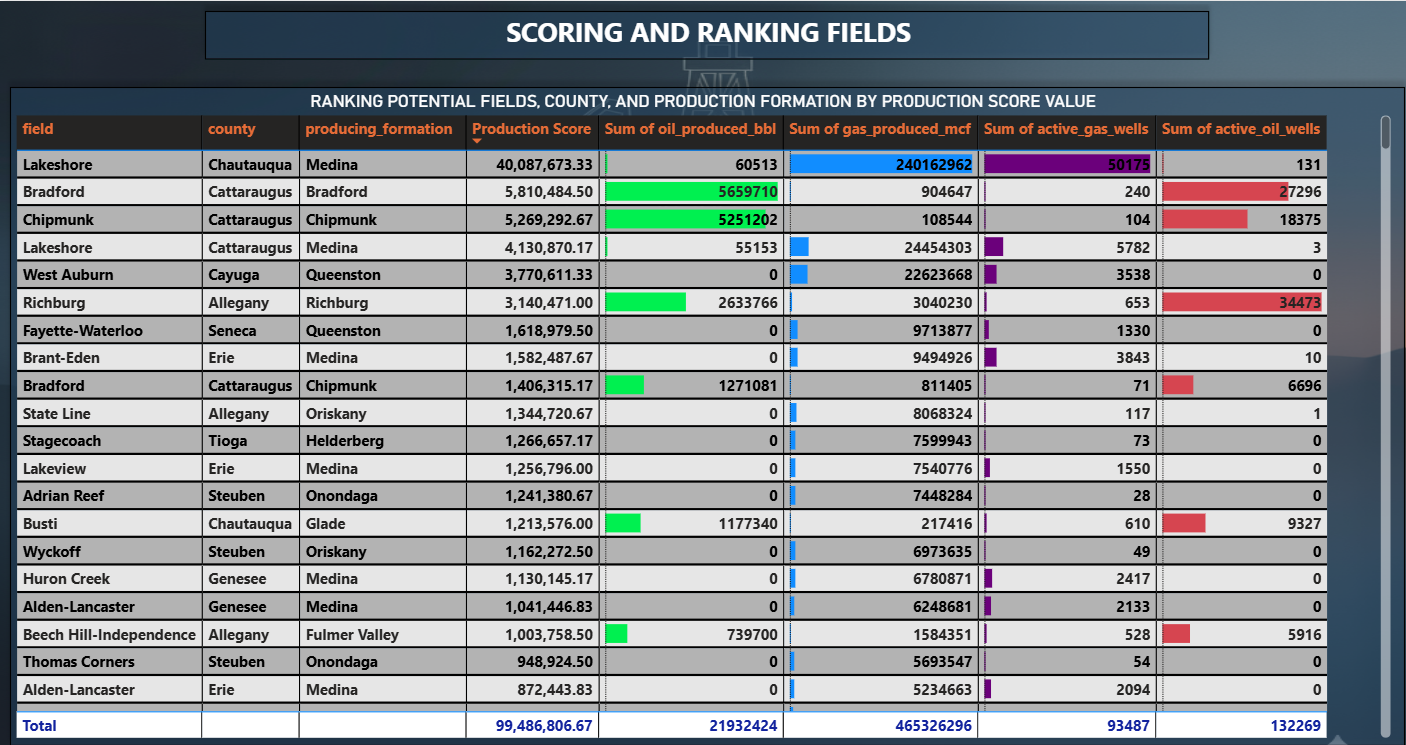

The dashboard page shown, as its layout file describes it:
{"tool":"powerbi","page":{"name":"SCORING AND RANKING FIELDS","canvas":[1280,720],"ordinal":2},"visuals":[{"type":"shape","box":[176.8,0,926.4,62],"z":0},{"type":"textbox","box":[341.5,6.5,597.9,55.5],"z":1000},{"type":"shape","box":[0,69,1280,614.1],"z":2000},{"type":"tableEx","title":"RANKING POTENTIAL FIELDS, COUNTY, AND PRODUCTION FORMATION BY PRODUCTION SCORE VALUE","fields":{"Values":["oil and gas production.field","oil and gas production.county","oil and gas production.producing_formation","oil and gas production.Production Score","Sum(oil and gas production.oil_produced_bbl)","Sum(oil and gas production.gas_produced_mcf)","Sum(oil and gas production.active_gas_wells)","Sum(oil and gas production.active_oil_wells)"]},"box":[8.6,80.2,1254.1,590.8],"z":3000}]}

Visuals, with their boxes on the page's 1280x720 design canvas (x1, y1, x2, y2). These are canvas units, not pixel positions in the 1406x745 screenshot, which may show the page scaled, cropped or inside an application window:
shape: <region>177, 0, 1103, 62</region>
textbox: <region>342, 6, 939, 62</region>
shape: <region>0, 69, 1280, 683</region>
"RANKING POTENTIAL FIELDS, COUNTY, AND PRODUCTION FORMATION BY PRODUCTION SCORE VALUE" tableEx: <region>9, 80, 1263, 671</region>
